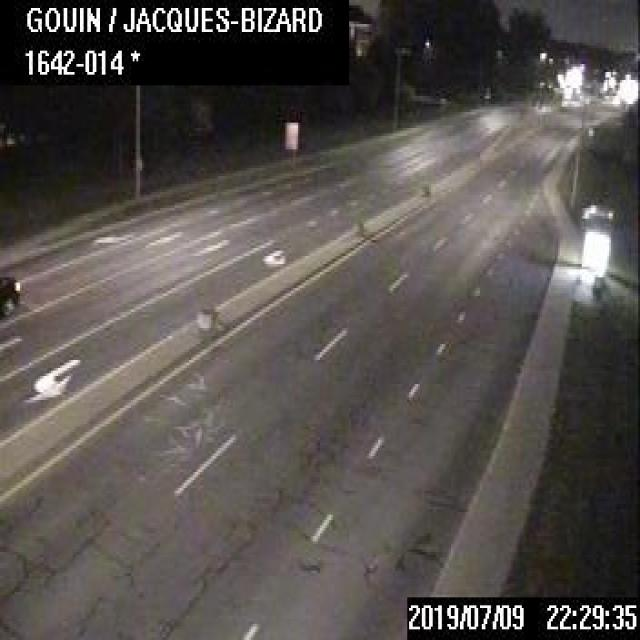vehicle: (0, 272, 20, 317)
